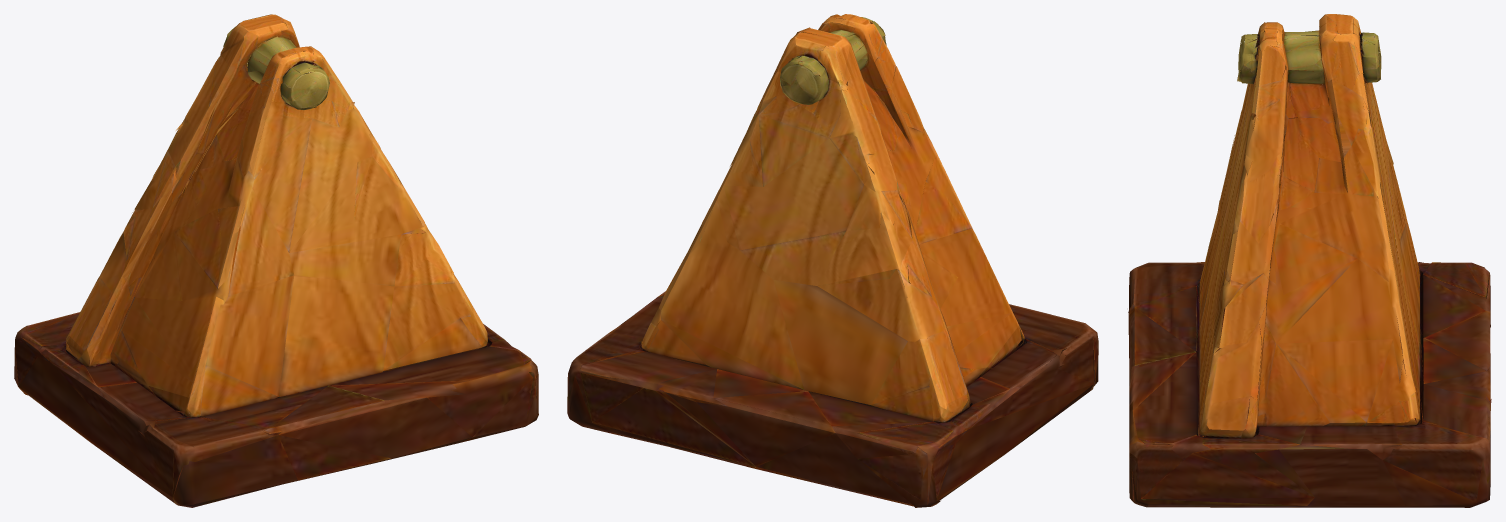
The model's file is fulcrum.glb.
The picture shows the model from 3 angles, left to right: view 1: azimuth 30°, elevation 25°; view 2: azimuth 150°, elevation 25°; view 3: azimuth 270°, elevation 25°; orthographic projection. The views are drawn at different scales.
Parts seen in each view (by area): view 1: Mesh_0; view 2: Mesh_0; view 3: Mesh_0.
Boxes of the visible parts, bbox=[...] form: Mesh_0: bbox=[14, 14, 538, 507]; Mesh_0: bbox=[567, 14, 1098, 507]; Mesh_0: bbox=[1128, 14, 1491, 507].
Size of the model in its own units: 1.01 by 1 by 0.8365.
1 material, 1 textured.
